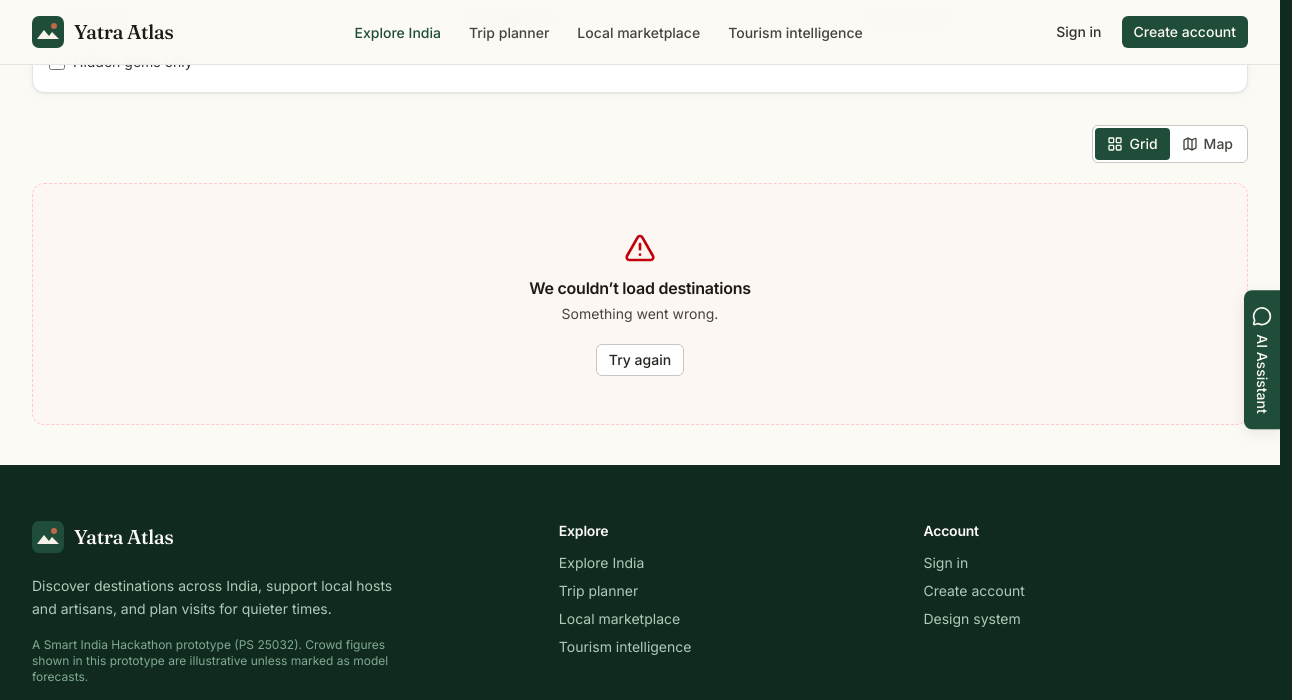
Test case: Explore page › shows an error state with retry when the API fails
(page scrolled)
Expected: the heading "We couldn’t load destinations" is shown, [529,276,751,300]
Click the button "Try again" at x=640, y=360, box [596,344,684,376]
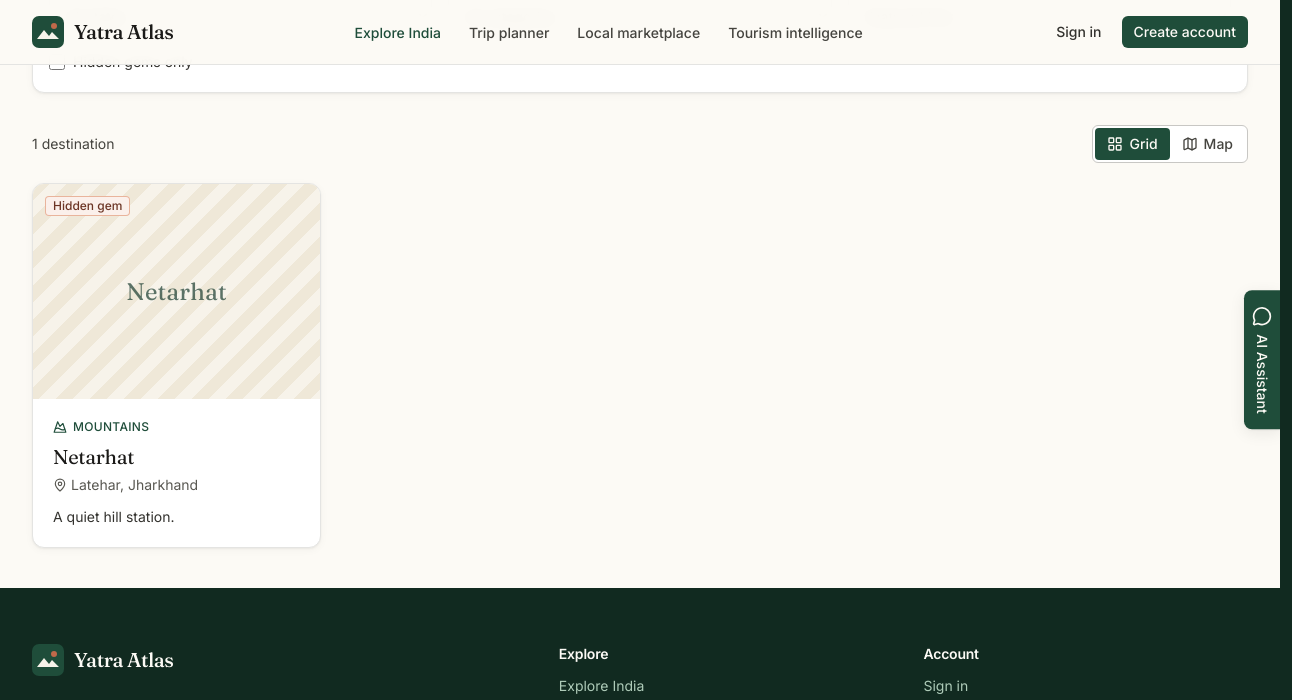
Expected: the link "Netarhat" is shown, [53,444,134,469]
